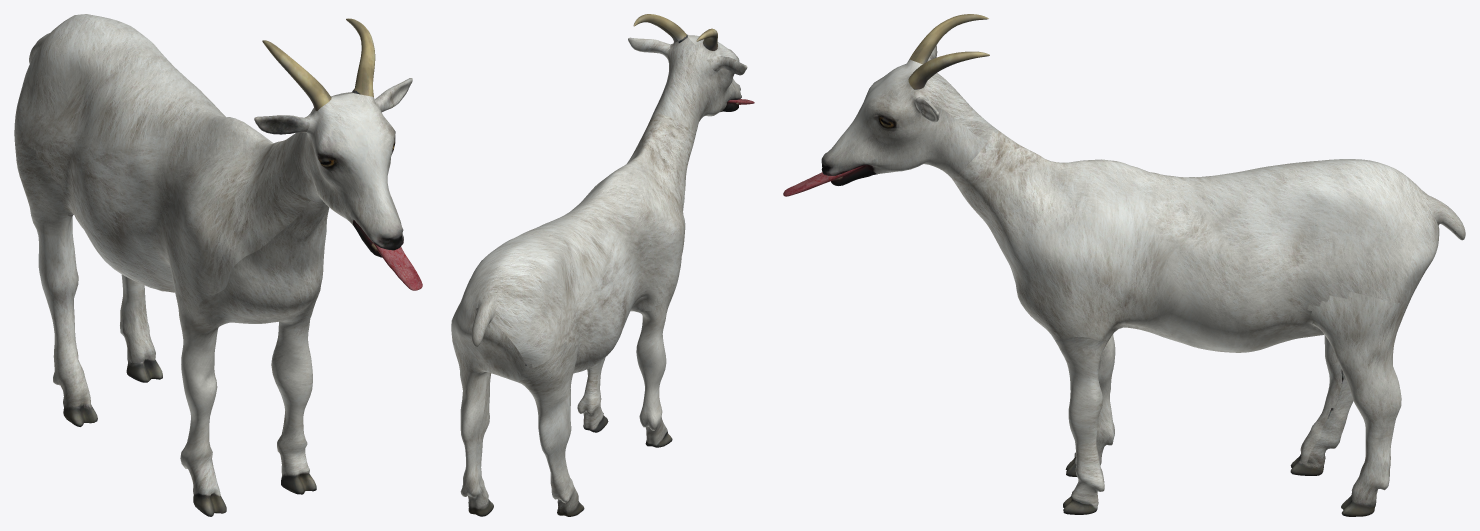
File: goat.obj
3 views of the same model, side by side, from view 1: azimuth 30°, elevation 25°; view 2: azimuth 150°, elevation 25°; view 3: azimuth 270°, elevation 25° (orthographic). The views are drawn at different scales.
Visible parts, largest first — view 1: goat; view 2: goat; view 3: goat.
Boxes of the visible parts, x1=… form: goat: x1=14, y1=14, x2=422, y2=516; goat: x1=451, y1=14, x2=754, y2=516; goat: x1=783, y1=14, x2=1465, y2=516.
Size of the model in its own units: 0.6135 by 1.88 by 2.53.
